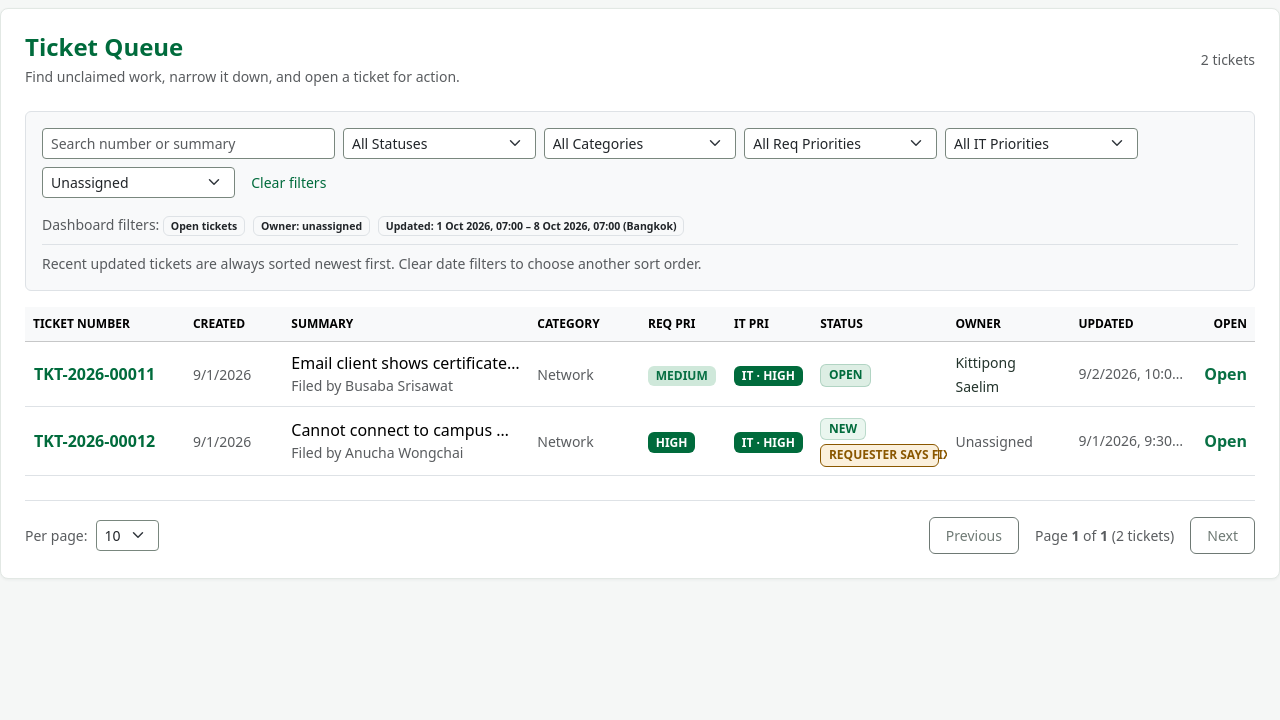
Test case: StaffTicketQueue wiring (C-03, AC-08) › restores dashboard drill-down filters from the URL and lets the user clear them
Expected: the element with test id "queue-dashboard-filters" shows "Open tickets", [171,219,237,233]
Expected: the element with test id "queue-dashboard-filters" shows "Owner: unassigned", [42,215,684,236]
Click the button "Clear filters": click(289, 182) [243,168,335,197]
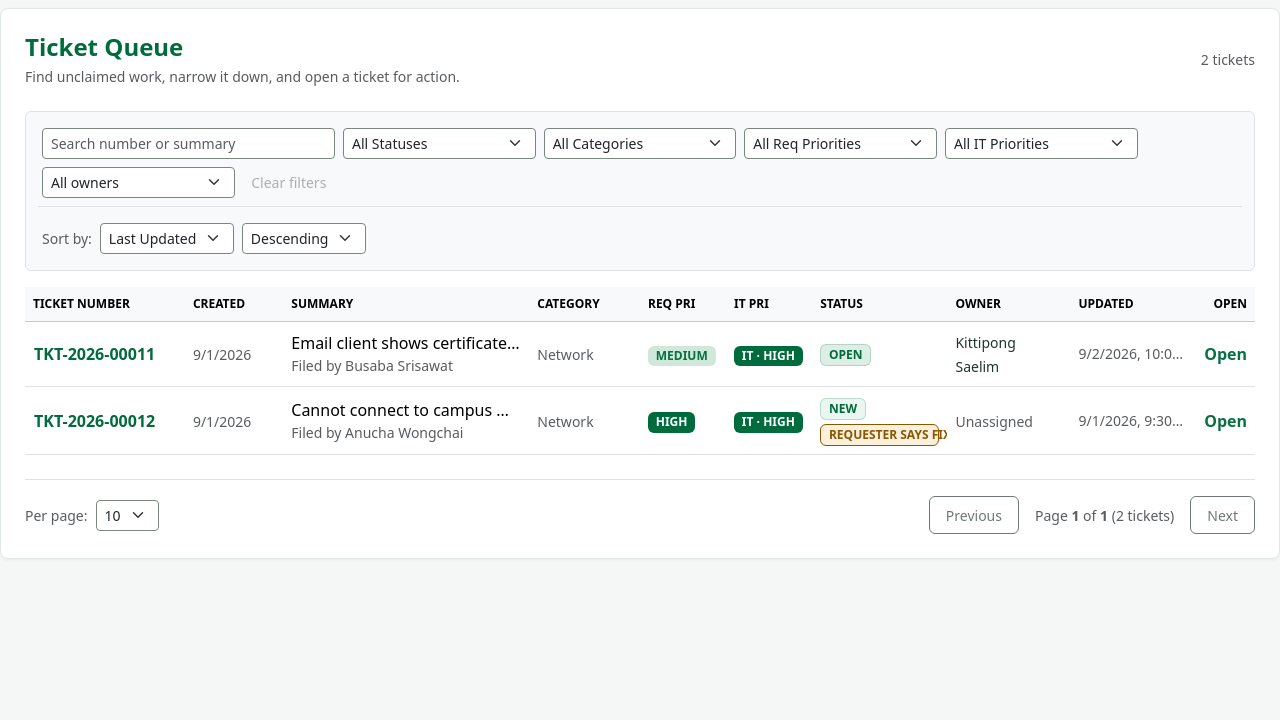
Expected: the element with test id "queue-dashboard-filters" is gone
